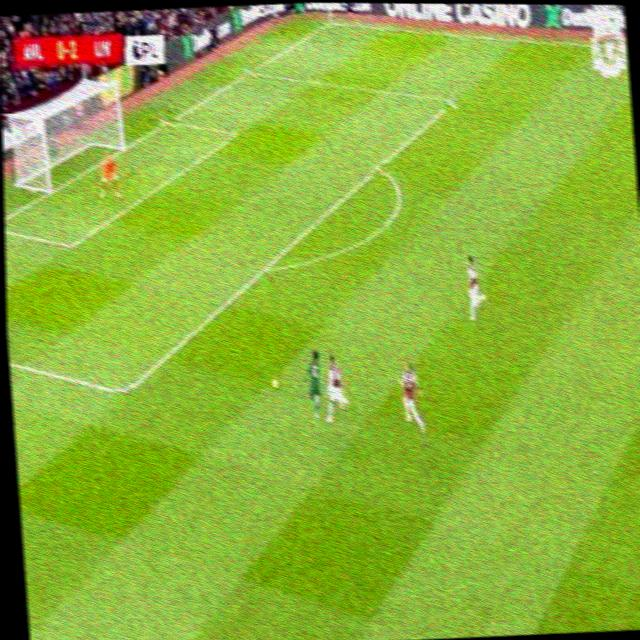bigarea_bottom_inner: (114, 379, 134, 404)
bigarea_top_inner: (443, 88, 461, 110)
bigarea_top_outter: (242, 62, 259, 81)
bottom_arc_area_intersection: (255, 257, 273, 277)
corner: (322, 14, 341, 29)
smallarea_bottom_inner: (59, 229, 80, 259)
smallarea_top_inner: (227, 122, 246, 143)
smallarea_top_outter: (159, 111, 178, 131)
top_arc_area_intersection: (370, 155, 388, 175)
